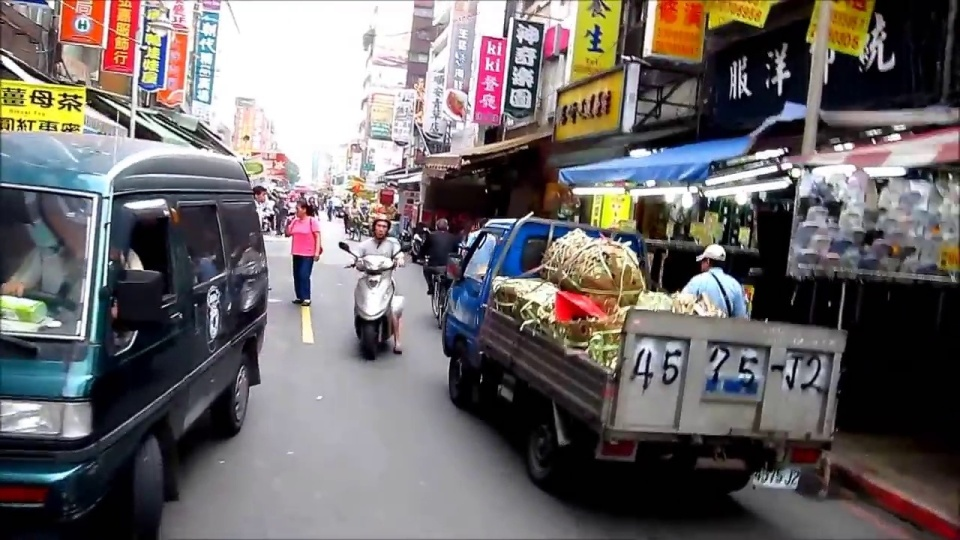person_head: (36, 198, 93, 230), (372, 219, 390, 240), (701, 255, 724, 270), (252, 186, 267, 204), (295, 201, 307, 217), (435, 218, 449, 231), (477, 216, 488, 229), (350, 198, 360, 207)
person_vbox: (6, 194, 147, 312), (351, 219, 406, 353), (680, 244, 750, 321), (284, 199, 321, 309), (419, 218, 456, 296), (465, 216, 495, 276), (348, 200, 365, 237), (324, 195, 333, 222)
